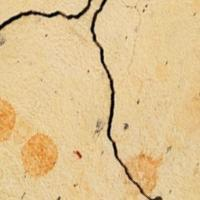crack: (0, 0, 152, 197)
